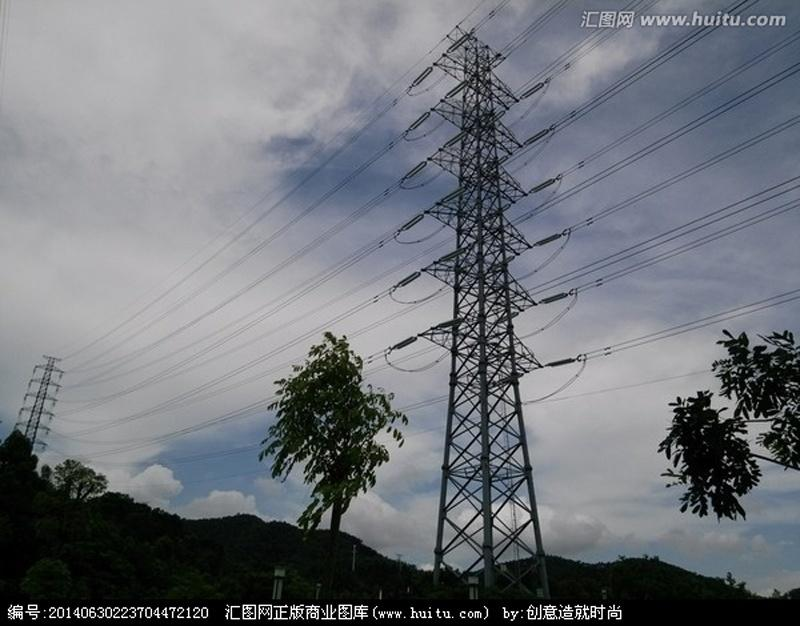power_tower: (393, 49, 564, 576), (3, 327, 94, 475)
